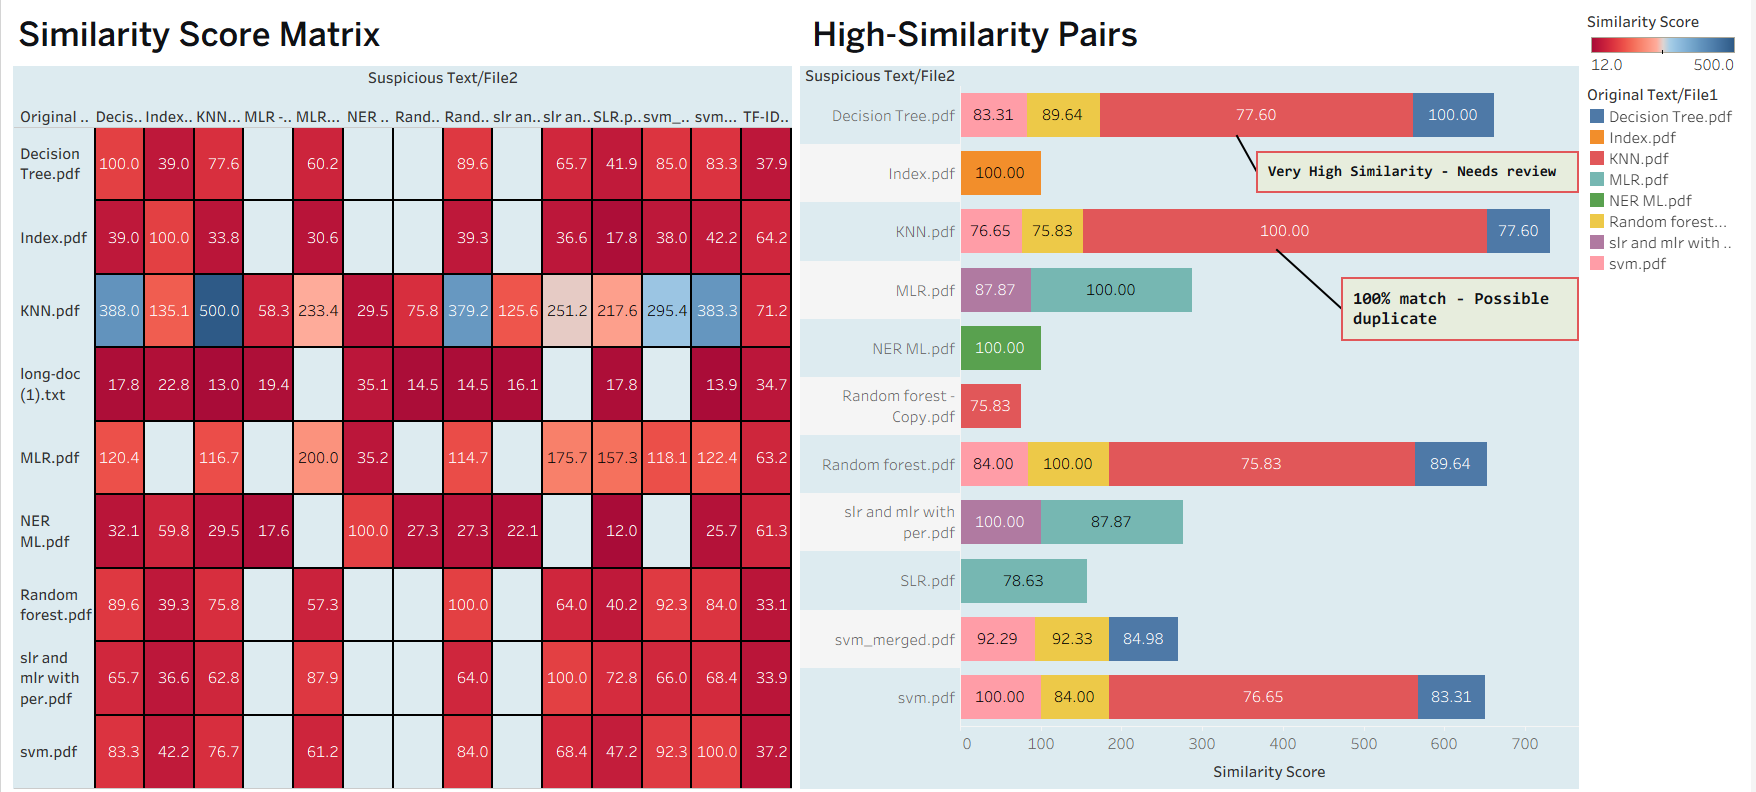

This screenshot's page, from the dashboard's own definition file:
{"tool":"tableau","page":{"name":"Dashboard 1","canvas":[1000,1000],"units":"permille","ordinal":0},"visuals":[{"type":"worksheet","title":"Heatmap","mark":"Square","rows":["Original_Text/File1"],"cols":["Suspicious_Text/File2"],"box":[4.8,10,446.9,980]},{"type":"worksheet","title":"Bar chart","mark":"Bar","rows":["Suspicious_Text/File2"],"cols":["Similarity_Score"],"box":[451.7,10,446.9,980]},{"type":"legend","title":"Heatmap","param":"[federated.0timax117k4e4w1chsrwi0i39l4t].[sum:Similarity_Score:qk]","box":[898.6,10,96.6,91.1]},{"type":"legend","title":"Bar chart","param":"[federated.0timax117k4e4w1chsrwi0i39l4t].[none:Original_Text/File1:nk]","box":[898.6,101.1,96.6,247.2]}]}

Visuals, with their boxes on the dashboard's canvas, which has no fixed pixel size, in thousandths of its width and height (x1, y1, x2, y2). These are canvas units, not pixel positions in the 1756x792 screenshot, which may show the page scaled, cropped or inside an application window:
"Heatmap" worksheet (Square marks): pyautogui.locateOnScreen(5, 10, 452, 990)
"Bar chart" worksheet (Bar marks): pyautogui.locateOnScreen(452, 10, 899, 990)
"Heatmap" legend: pyautogui.locateOnScreen(899, 10, 995, 101)
"Bar chart" legend: pyautogui.locateOnScreen(899, 101, 995, 348)
